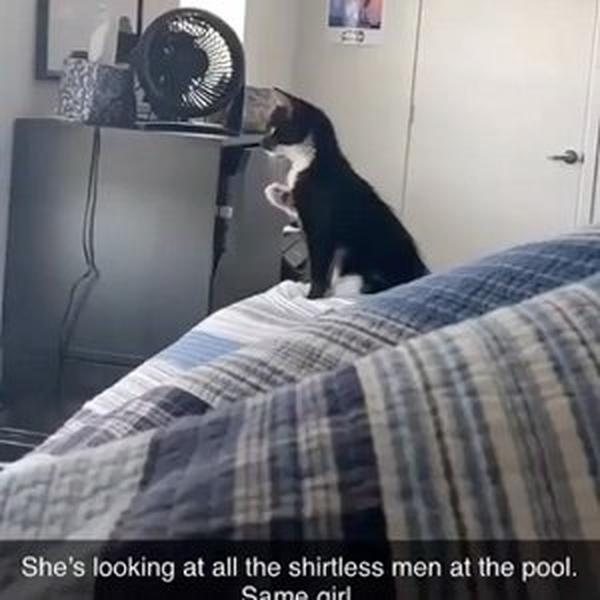michi: (252, 78, 433, 304)
